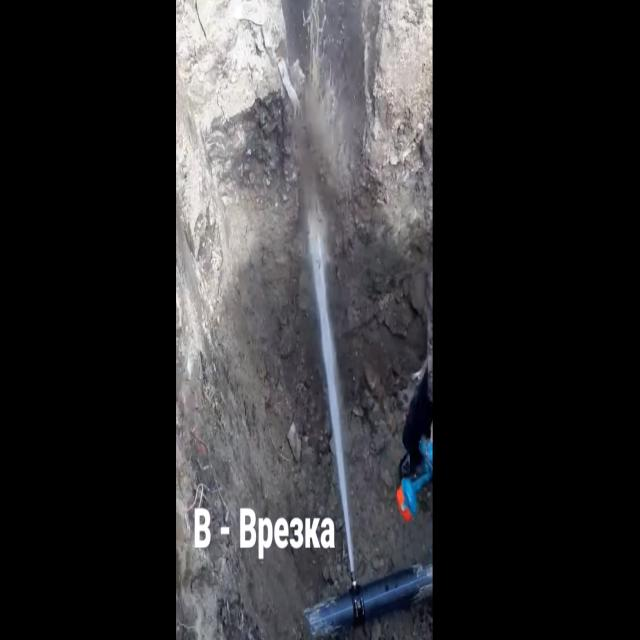leak: (309, 209, 356, 588)
